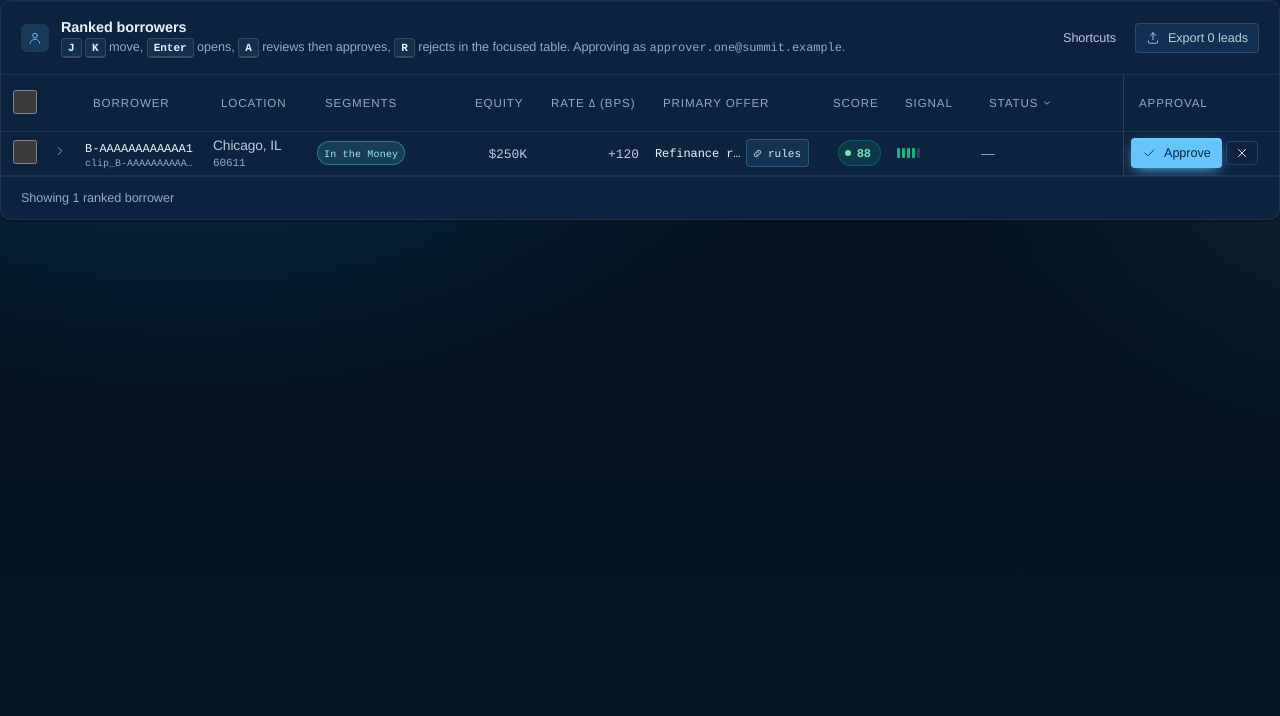
Test: LeadTable A/R hotkeys from row-internal focus › focus scope (tables-v2 / a11y-09) › still opens the reject panel when 'r' is pressed with focus in the table
Click the button with class "lead-table__borrower-btn" at (141, 154), box [85,140,197,169]
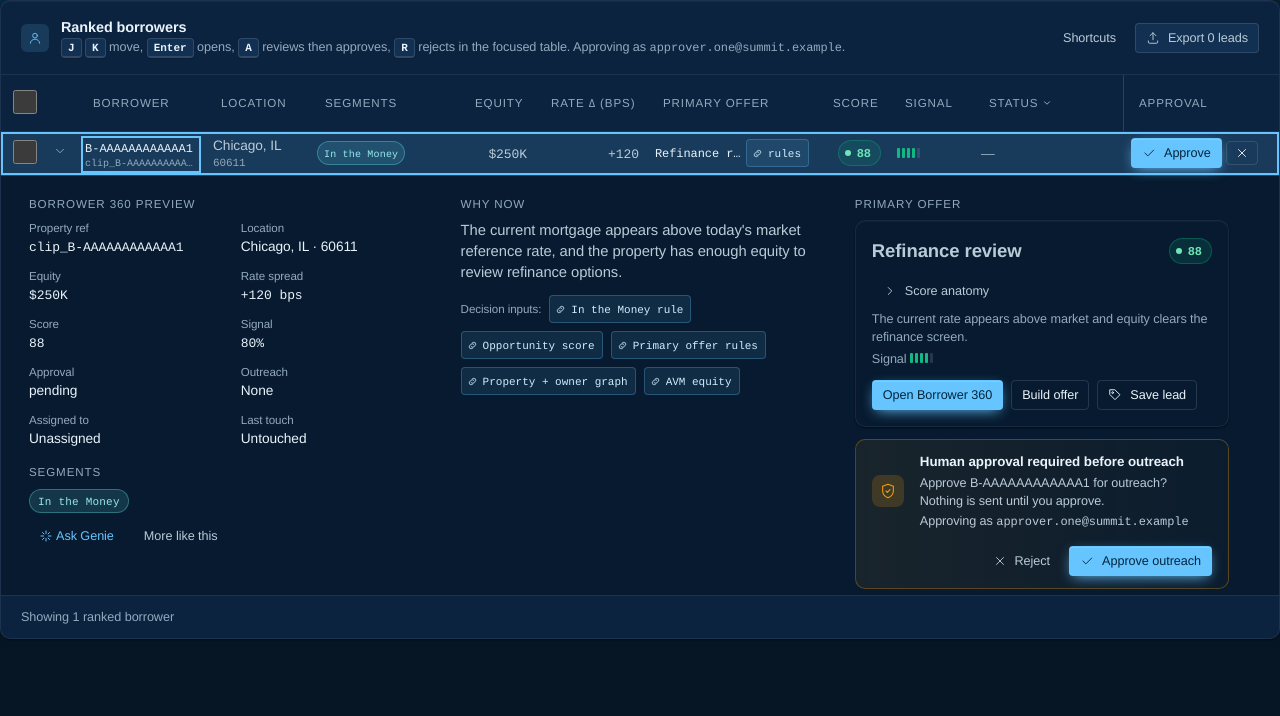
Press r in the button with class "lead-table__borrower-btn", box [85,140,197,169]
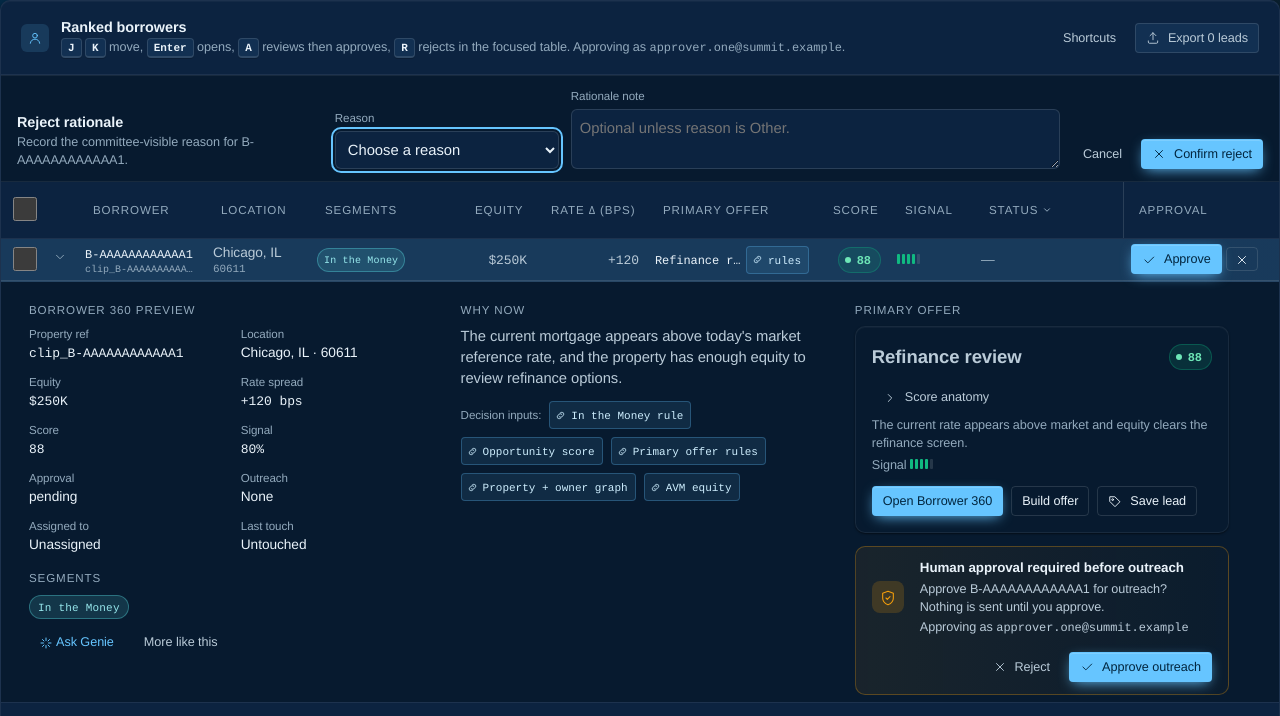
Check: the form with class "decision-panel" is shown, box [1,75,1279,182]
